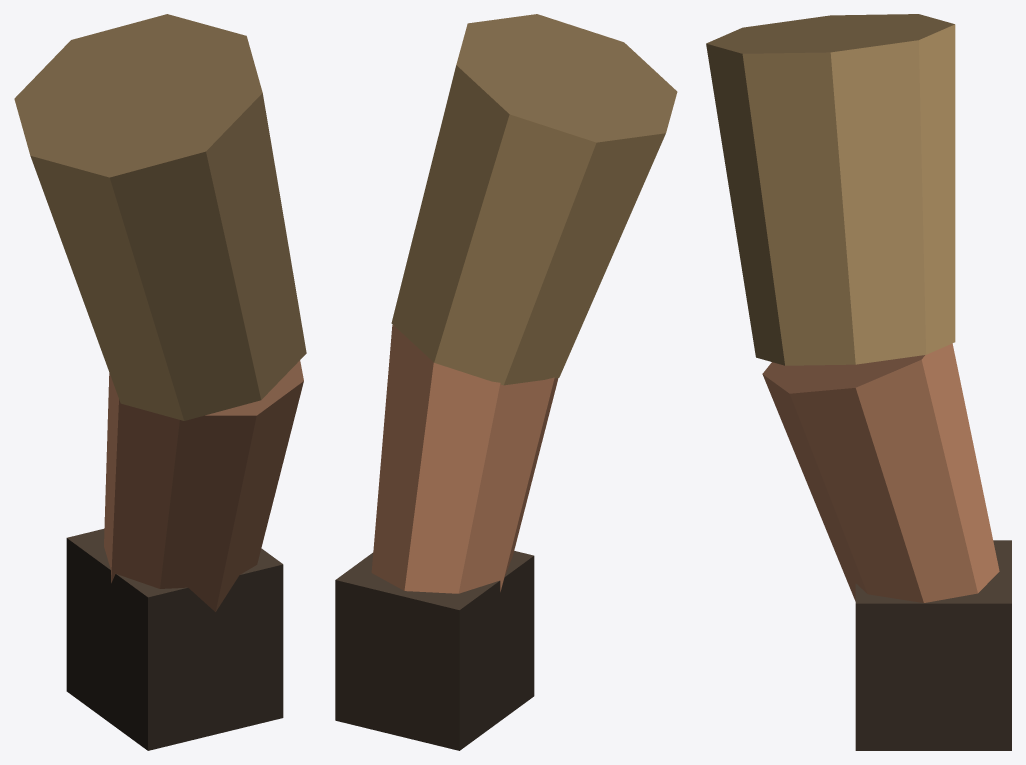
Rendered from terrorist_right_arm.obj.
3 views of the same model, side by side, from view 1: azimuth 30°, elevation 25°; view 2: azimuth 150°, elevation 25°; view 3: azimuth 270°, elevation 25° (orthographic). The views are drawn at different scales.
Parts seen in each view (by area): view 1: terrorist_right_arm; view 2: terrorist_right_arm; view 3: terrorist_right_arm.
Part boxes in pixels (x1,y1,x2,y2): terrorist_right_arm: (14,14,306,750); terrorist_right_arm: (335,14,677,750); terrorist_right_arm: (706,14,1011,750).
Bounding box in the file's own units: 9.83 × 23.83 × 9.79.
1 material, 1 textured.
